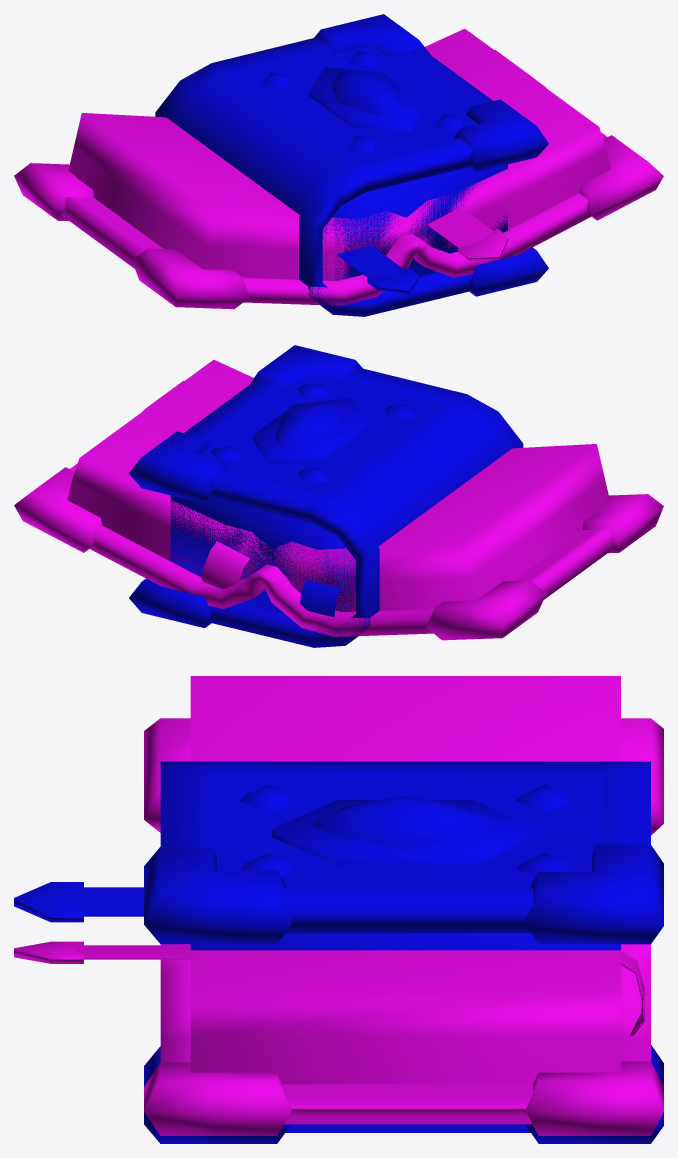
Rendered from PlayerMeshs_M_Export.fbx.
3 renders of one model, top to bottom at view 1: azimuth 30°, elevation 25°; view 2: azimuth 150°, elevation 25°; view 3: azimuth 270°, elevation 25°, orthographic. The views are drawn at different scales.
Parts seen in each view (by area): view 1: PlayerBook_M_Export2, PickUpBook_M_Export2; view 2: PlayerBook_M_Export2, PickUpBook_M_Export2; view 3: PlayerBook_M_Export2, PickUpBook_M_Export2.
Part boxes in pixels (x1,y1,x2,y2): PlayerBook_M_Export2: [14, 28, 663, 309]; PickUpBook_M_Export2: [155, 14, 548, 316]; PlayerBook_M_Export2: [14, 359, 663, 640]; PickUpBook_M_Export2: [129, 345, 523, 647]; PlayerBook_M_Export2: [14, 676, 663, 1135]; PickUpBook_M_Export2: [14, 761, 663, 1143].
Size of the model in its own units: 2.3 by 0.7615 by 1.65.
